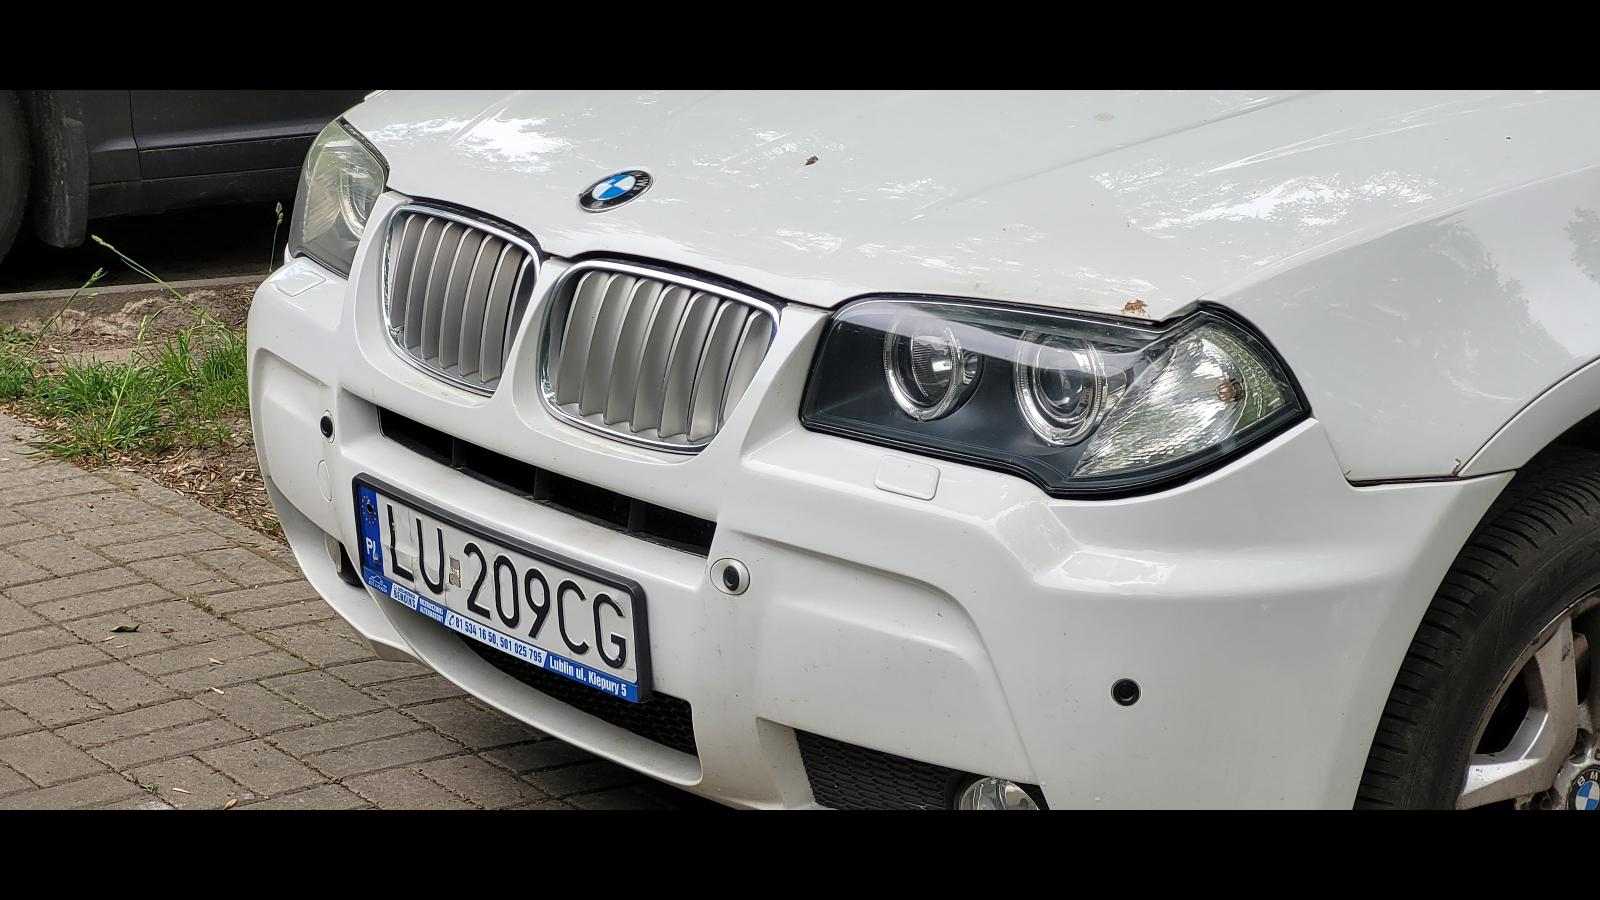plates: (351, 473, 652, 703)
